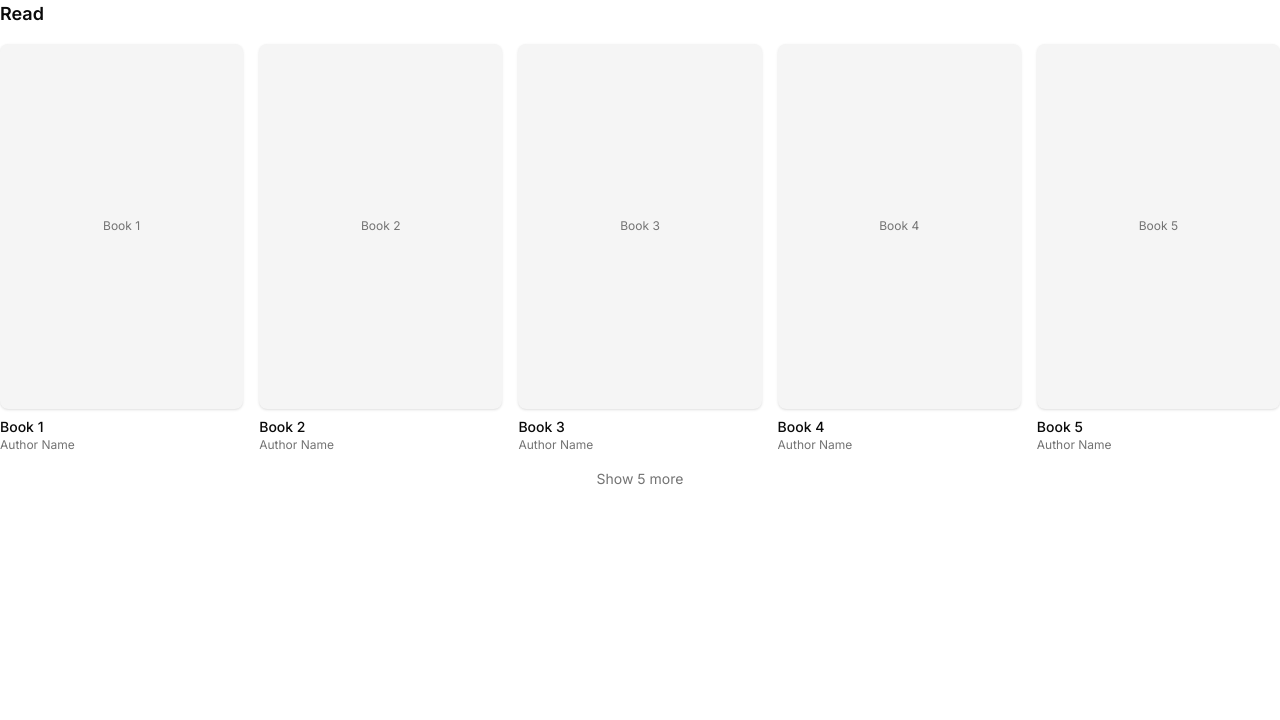
Scenario: ShelfSection › collapses back to 5 when "Show fewer" is clicked
Click the button "Show 5 more". click: click(640, 479)
box: left=0, top=469, right=1279, bottom=489
(page scrolled)
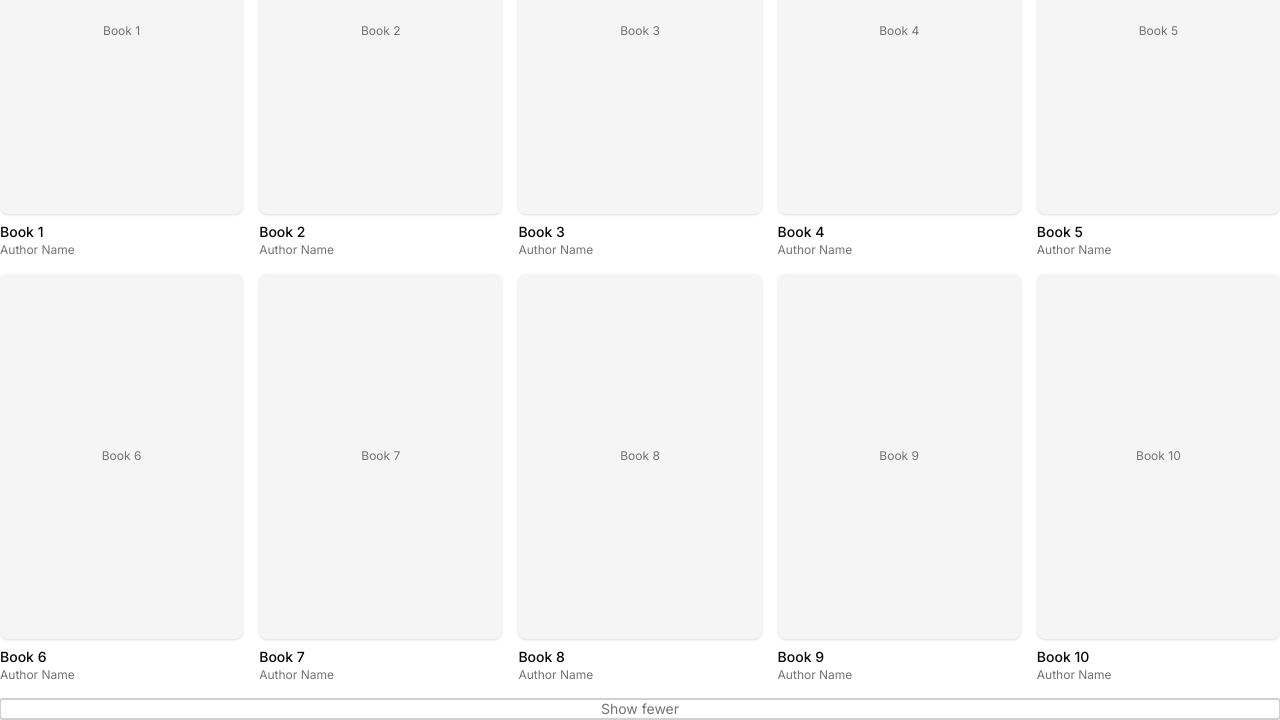
Click the button "Show fewer". click: click(640, 709)
box: left=0, top=699, right=1279, bottom=719
(page scrolled)
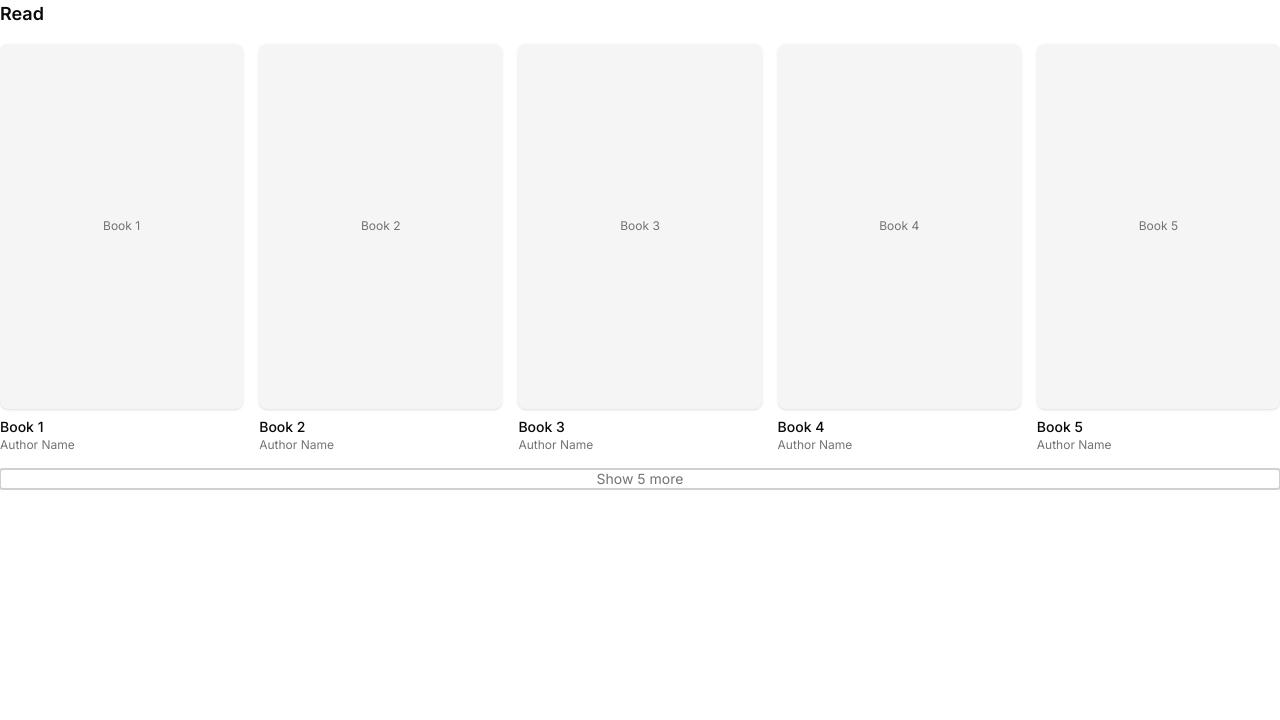
Expected: the number of links is 5, left=0, top=44, right=243, bottom=453; left=259, top=44, right=502, bottom=453; left=518, top=44, right=762, bottom=453; left=778, top=44, right=1021, bottom=453; left=1037, top=44, right=1279, bottom=453
